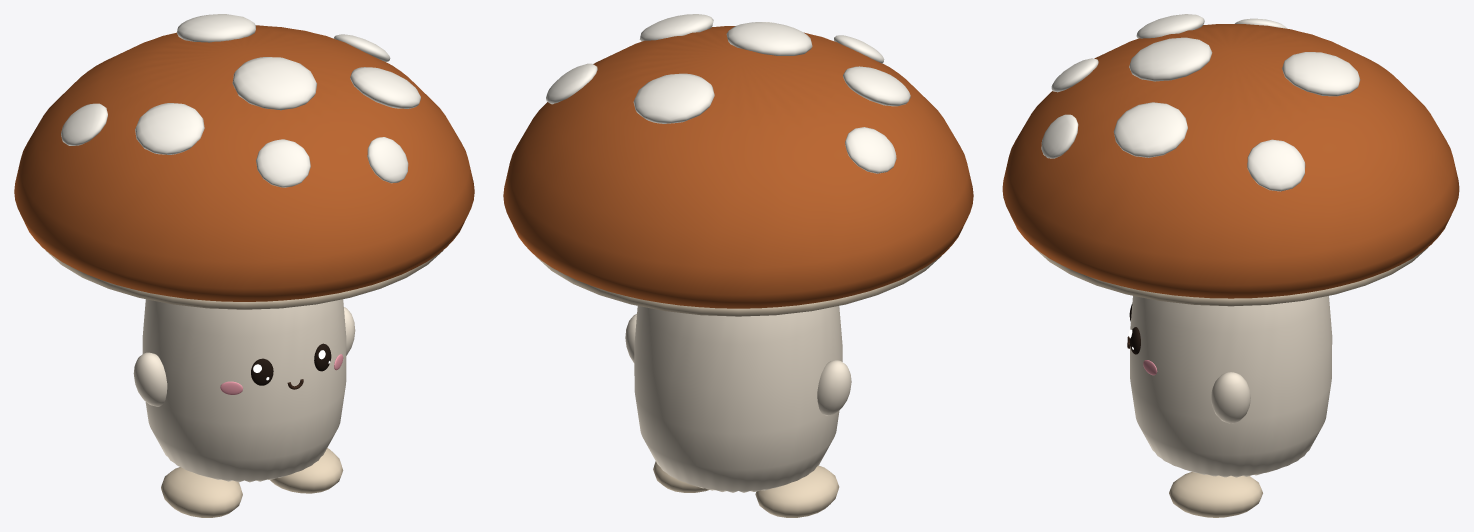
The model's file is shroom.glb.
3 views of the same model, side by side, from view 1: azimuth 30°, elevation 25°; view 2: azimuth 150°, elevation 25°; view 3: azimuth 270°, elevation 25° (orthographic). The views are drawn at different scales.
Parts seen in each view (by area): view 1: shroom; view 2: shroom; view 3: shroom.
Part boxes in pixels (<box>): shroom: <box>14,14,474,517</box>; shroom: <box>503,14,973,517</box>; shroom: <box>1002,14,1459,517</box>.
Size of the model in its own units: 0.0915 by 0.0977 by 0.0915.
